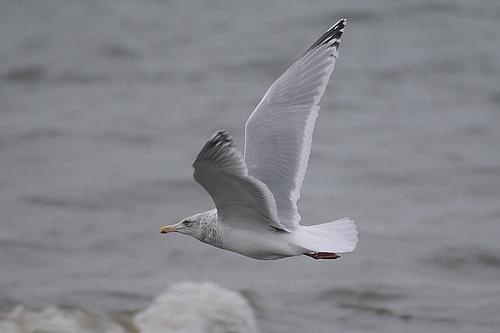bird: (156, 17, 371, 264)
